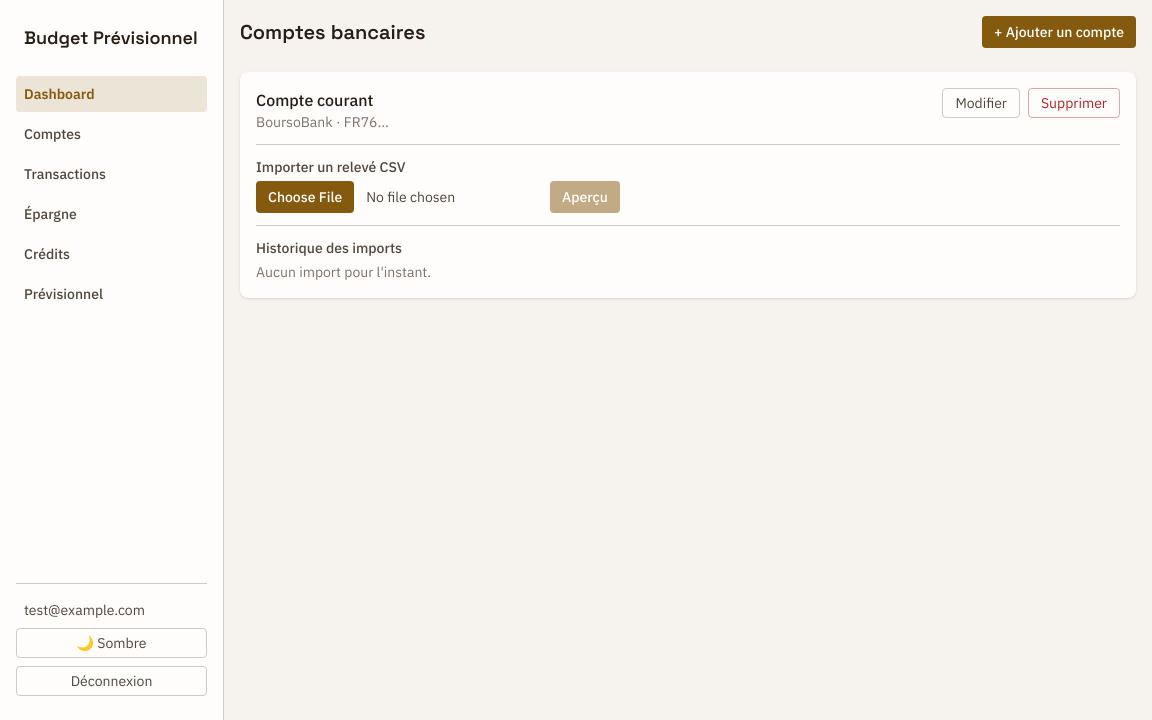
Test: AccountsPage › edits an account with each field properly labeled
Click the button "Modifier" at (981, 103), box x1=942 y1=88 x2=1020 y2=118
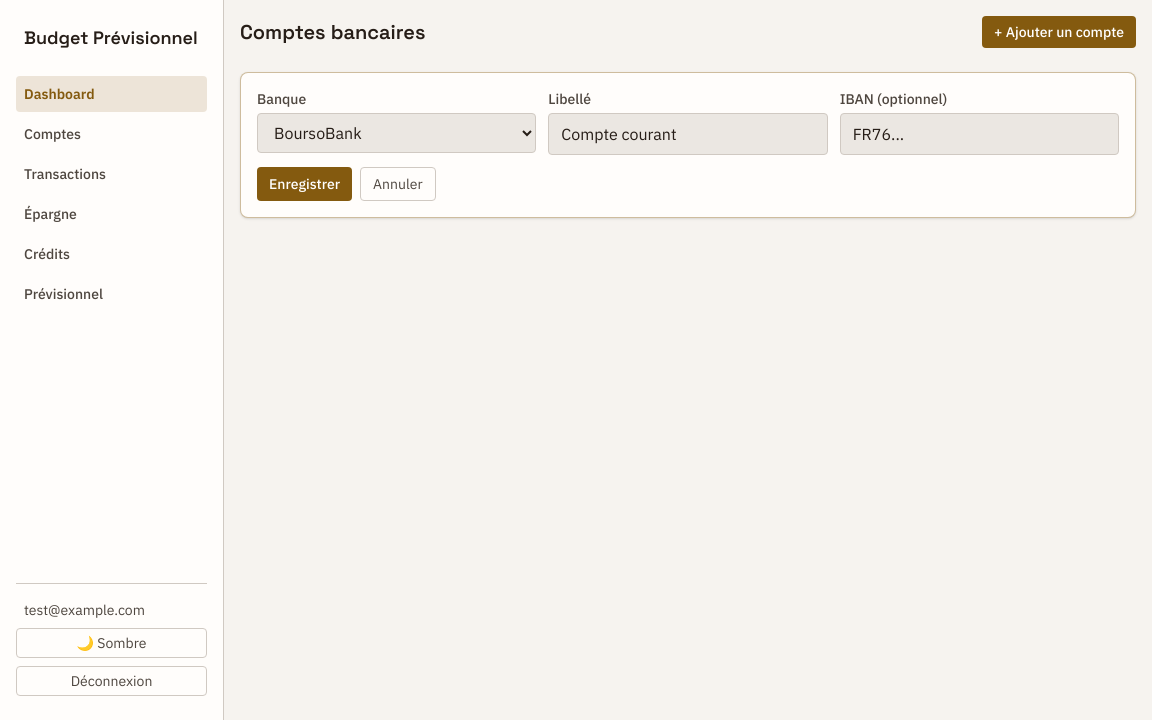
Now the dropdown labelled "Banque" is shown, box x1=257 y1=113 x2=536 y2=153
Now the field labelled "IBAN (optionnel)" is shown, box x1=840 y1=113 x2=1119 y2=155
Replace the text in the field labelled "Libellé" with "Compte perso" at (688, 134), box x1=548 y1=113 x2=828 y2=155
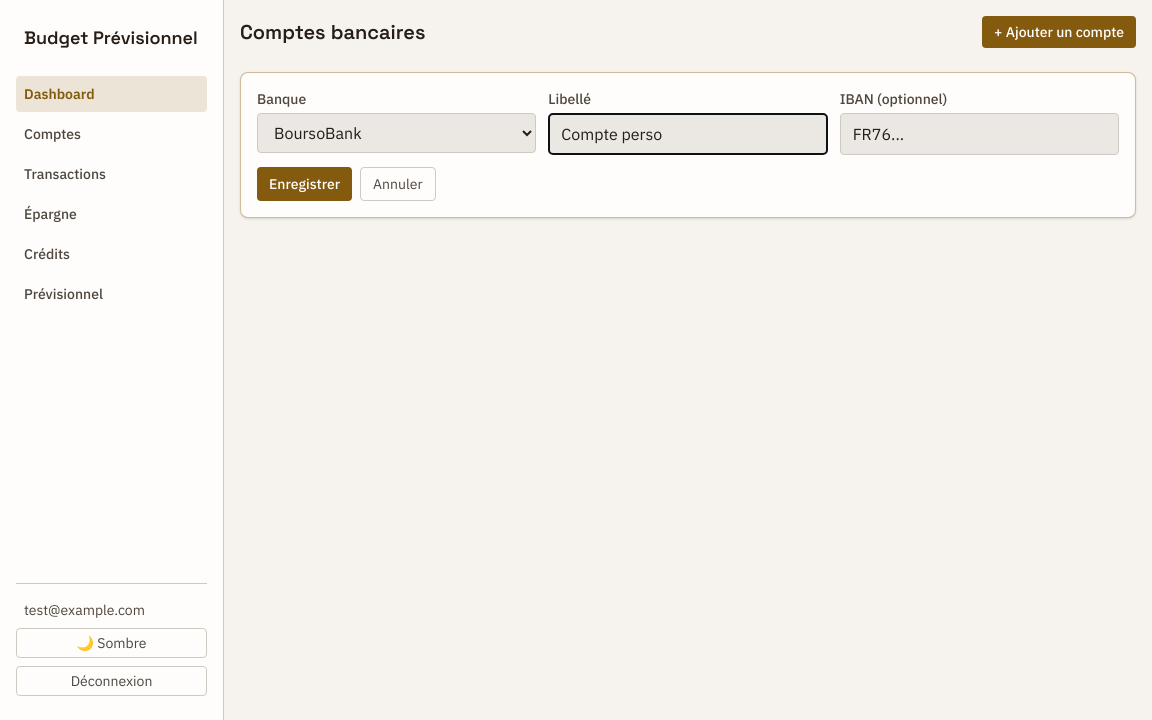
Click the button "Enregistrer" at (305, 184), box x1=257 y1=167 x2=352 y2=201
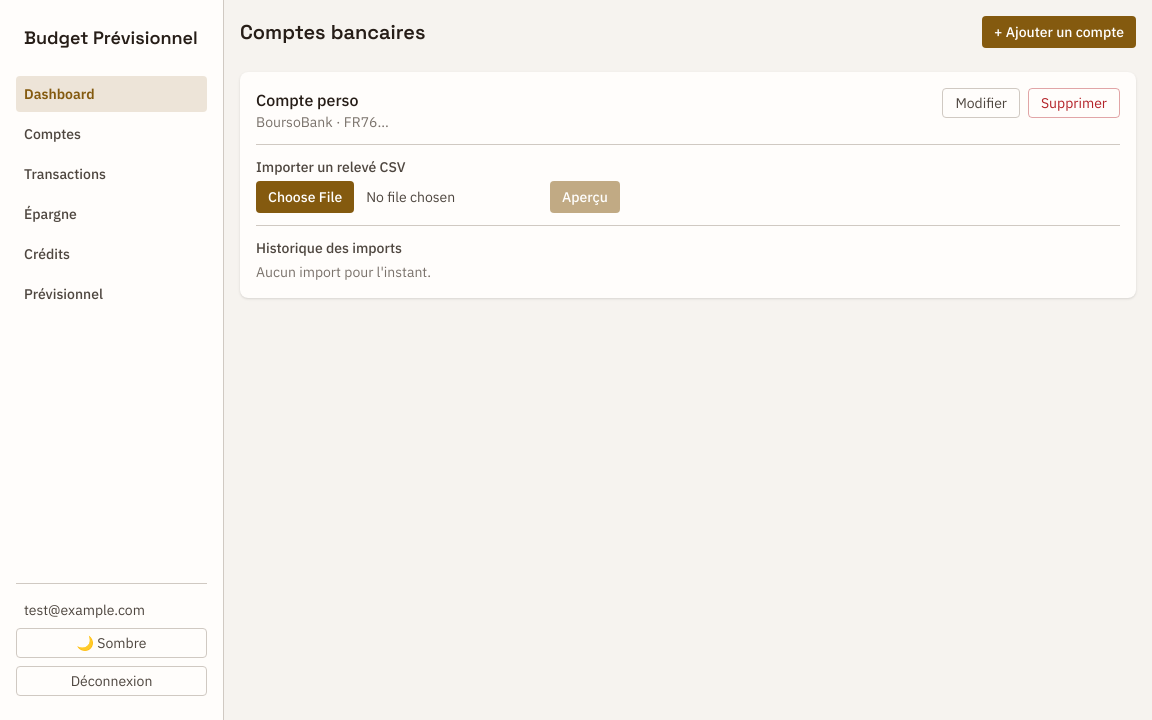
Now the text "Compte perso" is shown, box x1=256 y1=90 x2=358 y2=110
